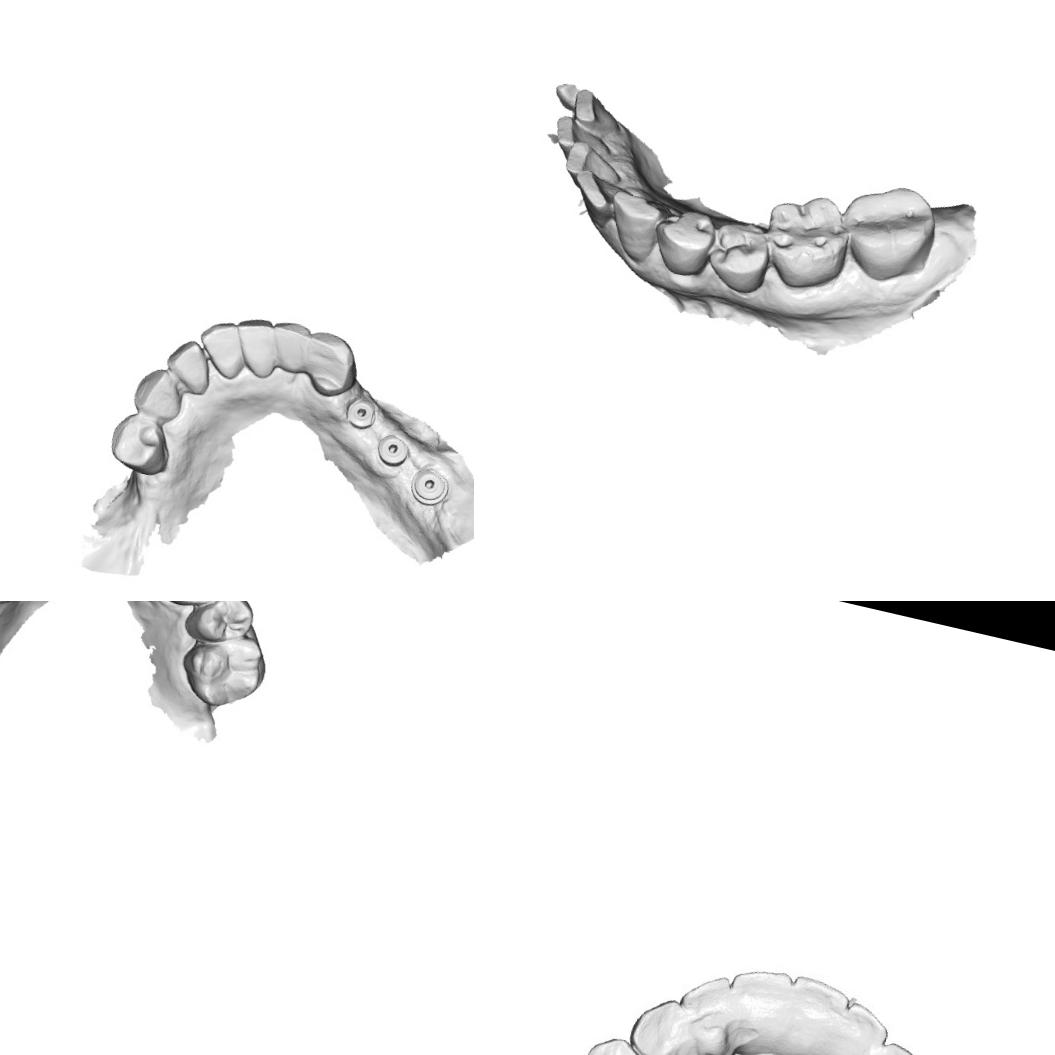canine: (618, 987, 699, 1055), (296, 328, 366, 402), (602, 188, 666, 266), (128, 363, 188, 424), (842, 1034, 929, 1055)
implant: (405, 464, 452, 510), (373, 431, 412, 470), (341, 393, 380, 432)
incisor: (718, 952, 800, 1026), (782, 969, 856, 1039), (672, 967, 738, 1044), (192, 315, 254, 382), (226, 313, 286, 382), (159, 334, 218, 397), (833, 997, 896, 1055), (550, 111, 619, 160), (568, 167, 622, 229), (264, 317, 314, 376), (560, 138, 616, 189), (568, 85, 618, 133)
molar: (830, 174, 944, 293), (752, 184, 860, 298), (174, 622, 270, 716)
premolar: (648, 199, 722, 280), (706, 219, 779, 298), (103, 408, 178, 480), (180, 601, 259, 654), (571, 1028, 671, 1055)
